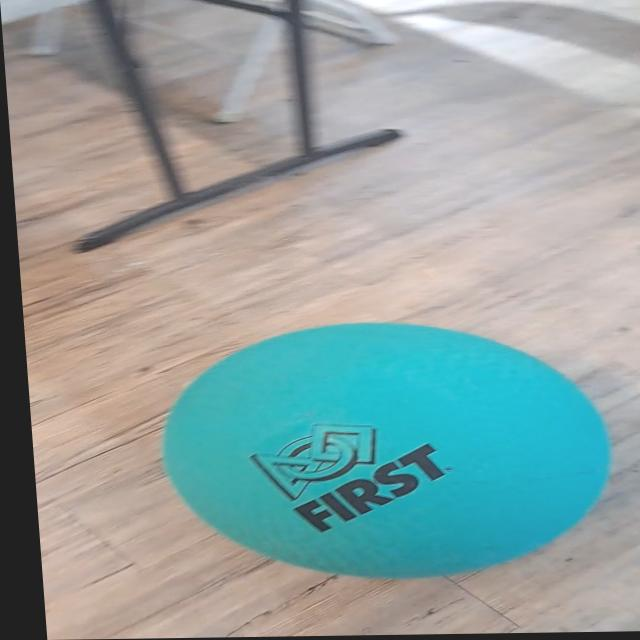ALGAE: (149, 317, 623, 584)
